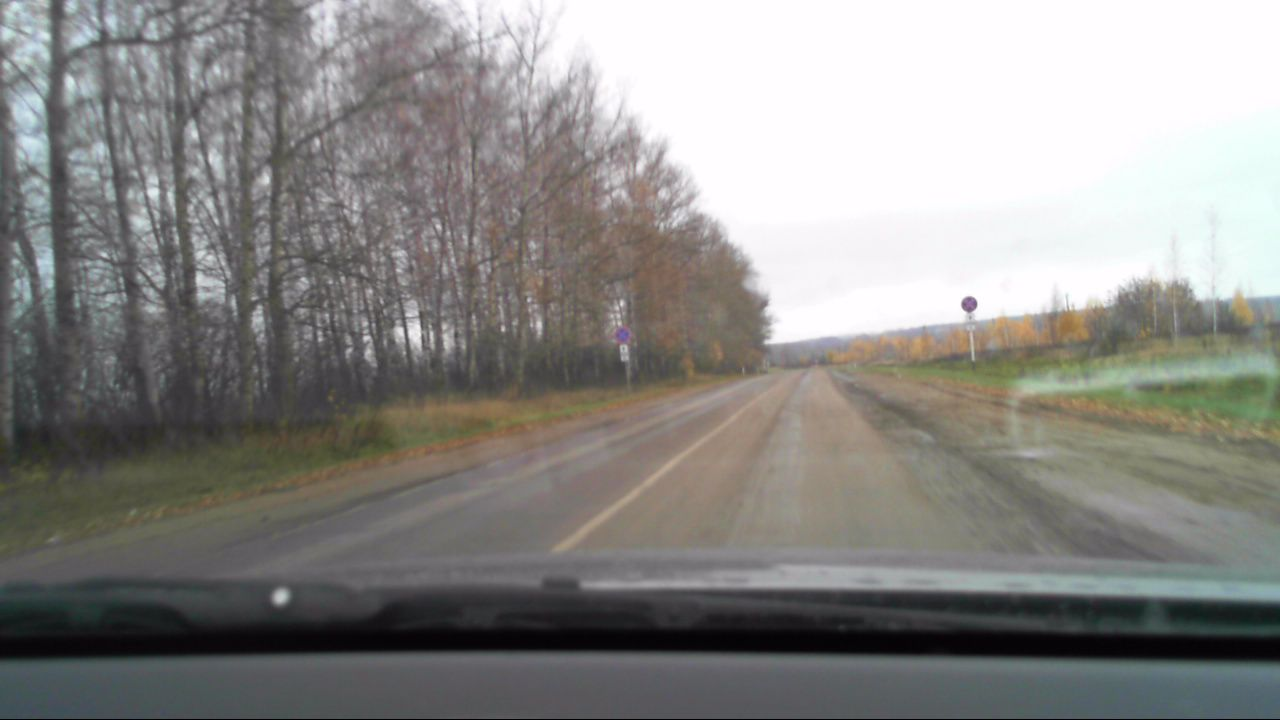No Parking: (961, 296, 977, 312)
